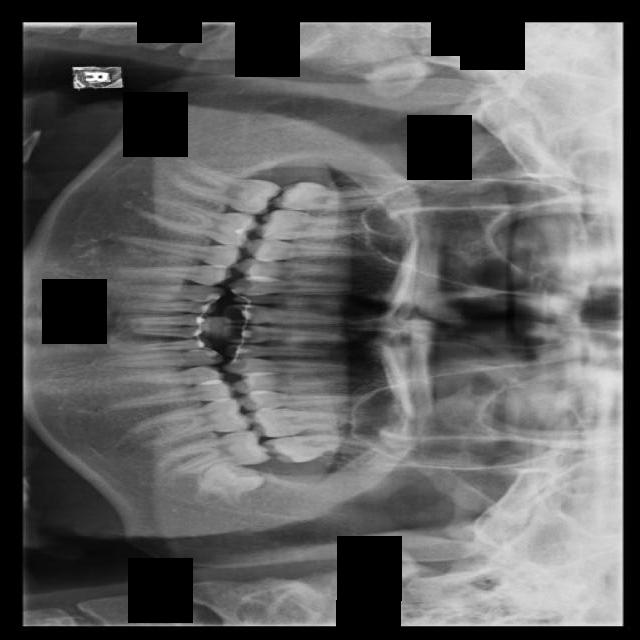73: (52, 604, 52, 606)
BioHorizons Implant: (260, 428, 373, 466)
Biomet 3i Implant: (193, 458, 264, 513)
Blue Sky Bio Implant: (154, 426, 271, 480)
Caries: (271, 182, 387, 212)
Implant: (166, 156, 282, 221)
